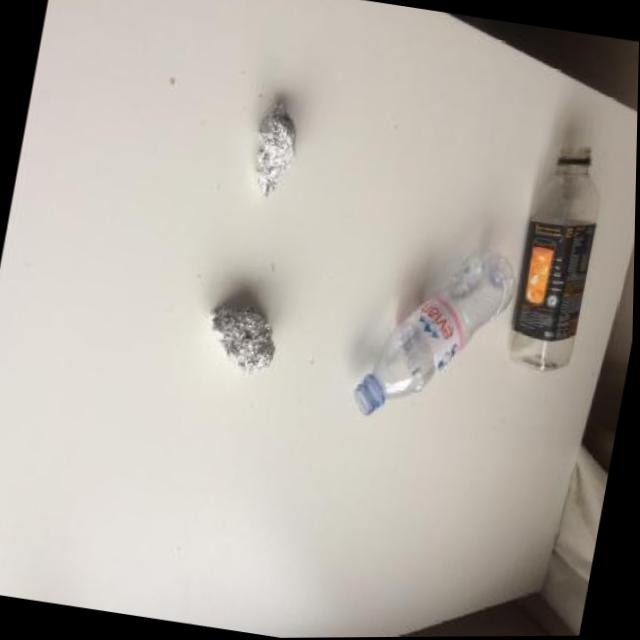metal: (197, 297, 284, 383), (242, 97, 304, 204)
plastic: (348, 231, 520, 435), (501, 138, 612, 378)
